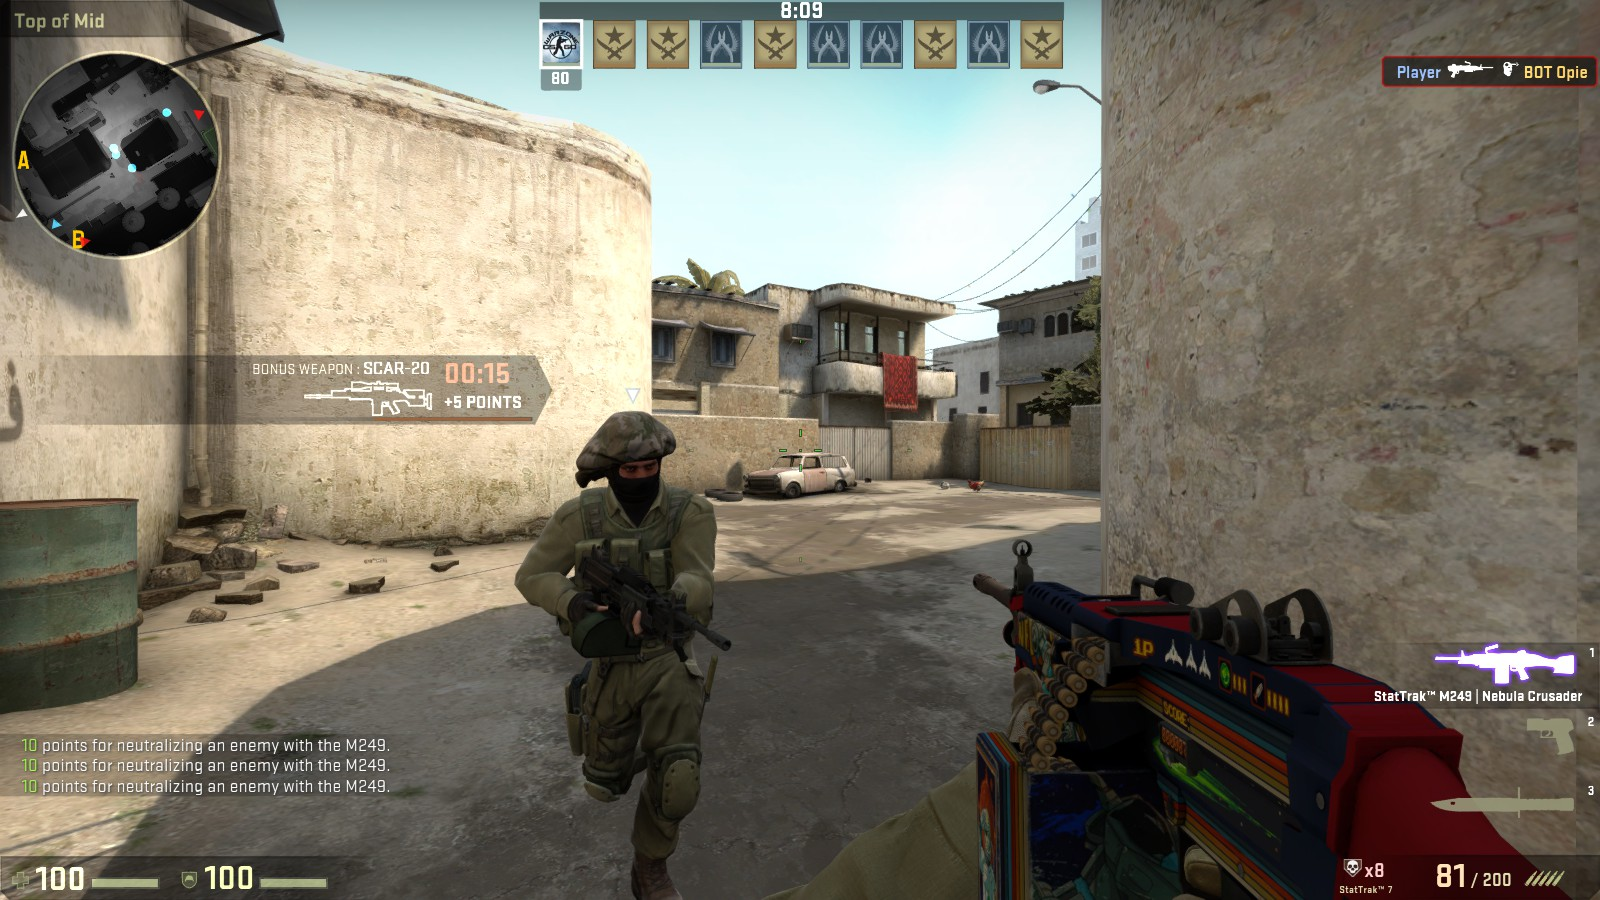c: (548, 404, 724, 899)
ch: (590, 407, 681, 519)
